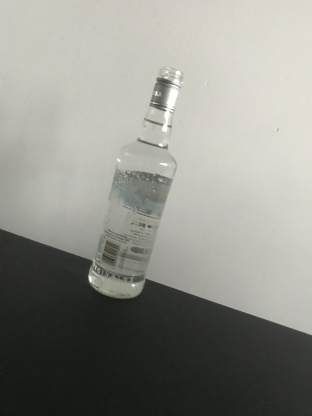nakretka: (148, 65, 184, 114)
